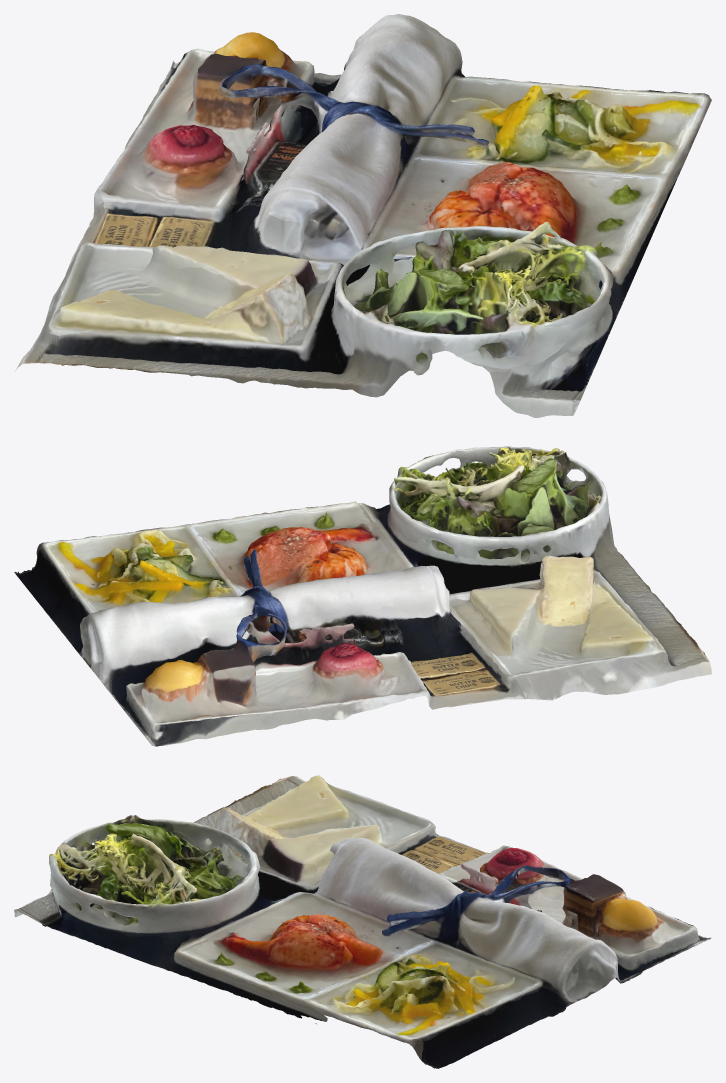
3 renders of one model, top to bottom at view 1: azimuth 30°, elevation 25°; view 2: azimuth 150°, elevation 25°; view 3: azimuth 270°, elevation 25°, orthographic. The views are drawn at different scales.
Parts seen in each view (by area): view 1: Object_2; view 2: Object_2; view 3: Object_2.
Part boxes in pixels (bbox=[...]): Object_2: bbox=[15, 14, 711, 417]; Object_2: bbox=[14, 446, 711, 746]; Object_2: bbox=[14, 775, 711, 1068].
Bounding box in the file's own units: 128 × 17.82 × 130.
Materials: 1 (1 with a texture image).
